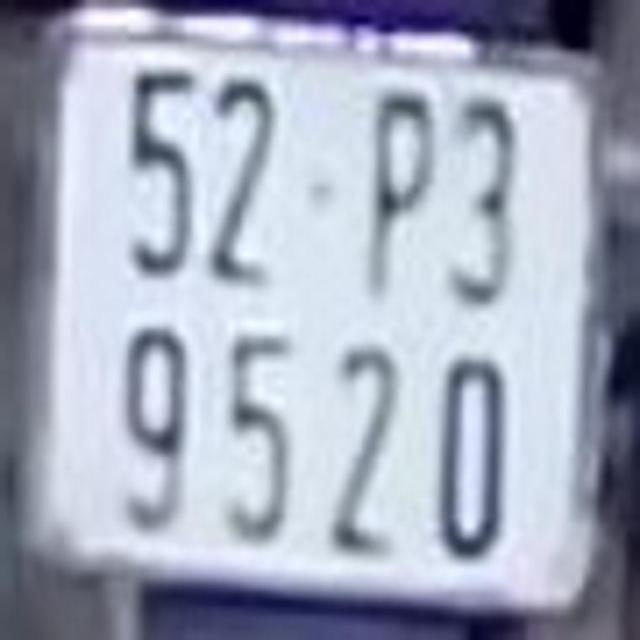0: (436, 352, 503, 554)
2: (214, 65, 284, 282), (338, 342, 401, 566)
3: (446, 93, 519, 304)
5: (230, 326, 288, 548), (131, 67, 192, 276)
9: (128, 330, 186, 536)
P: (371, 86, 437, 308)
